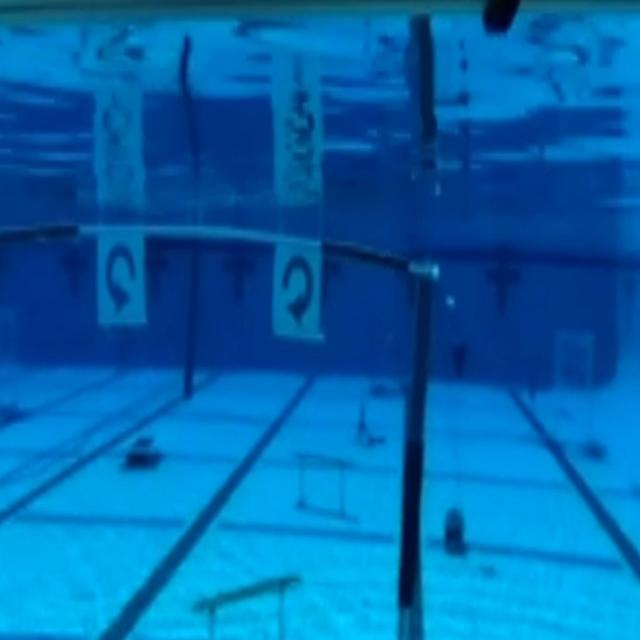Gate: (0, 206, 440, 640)
